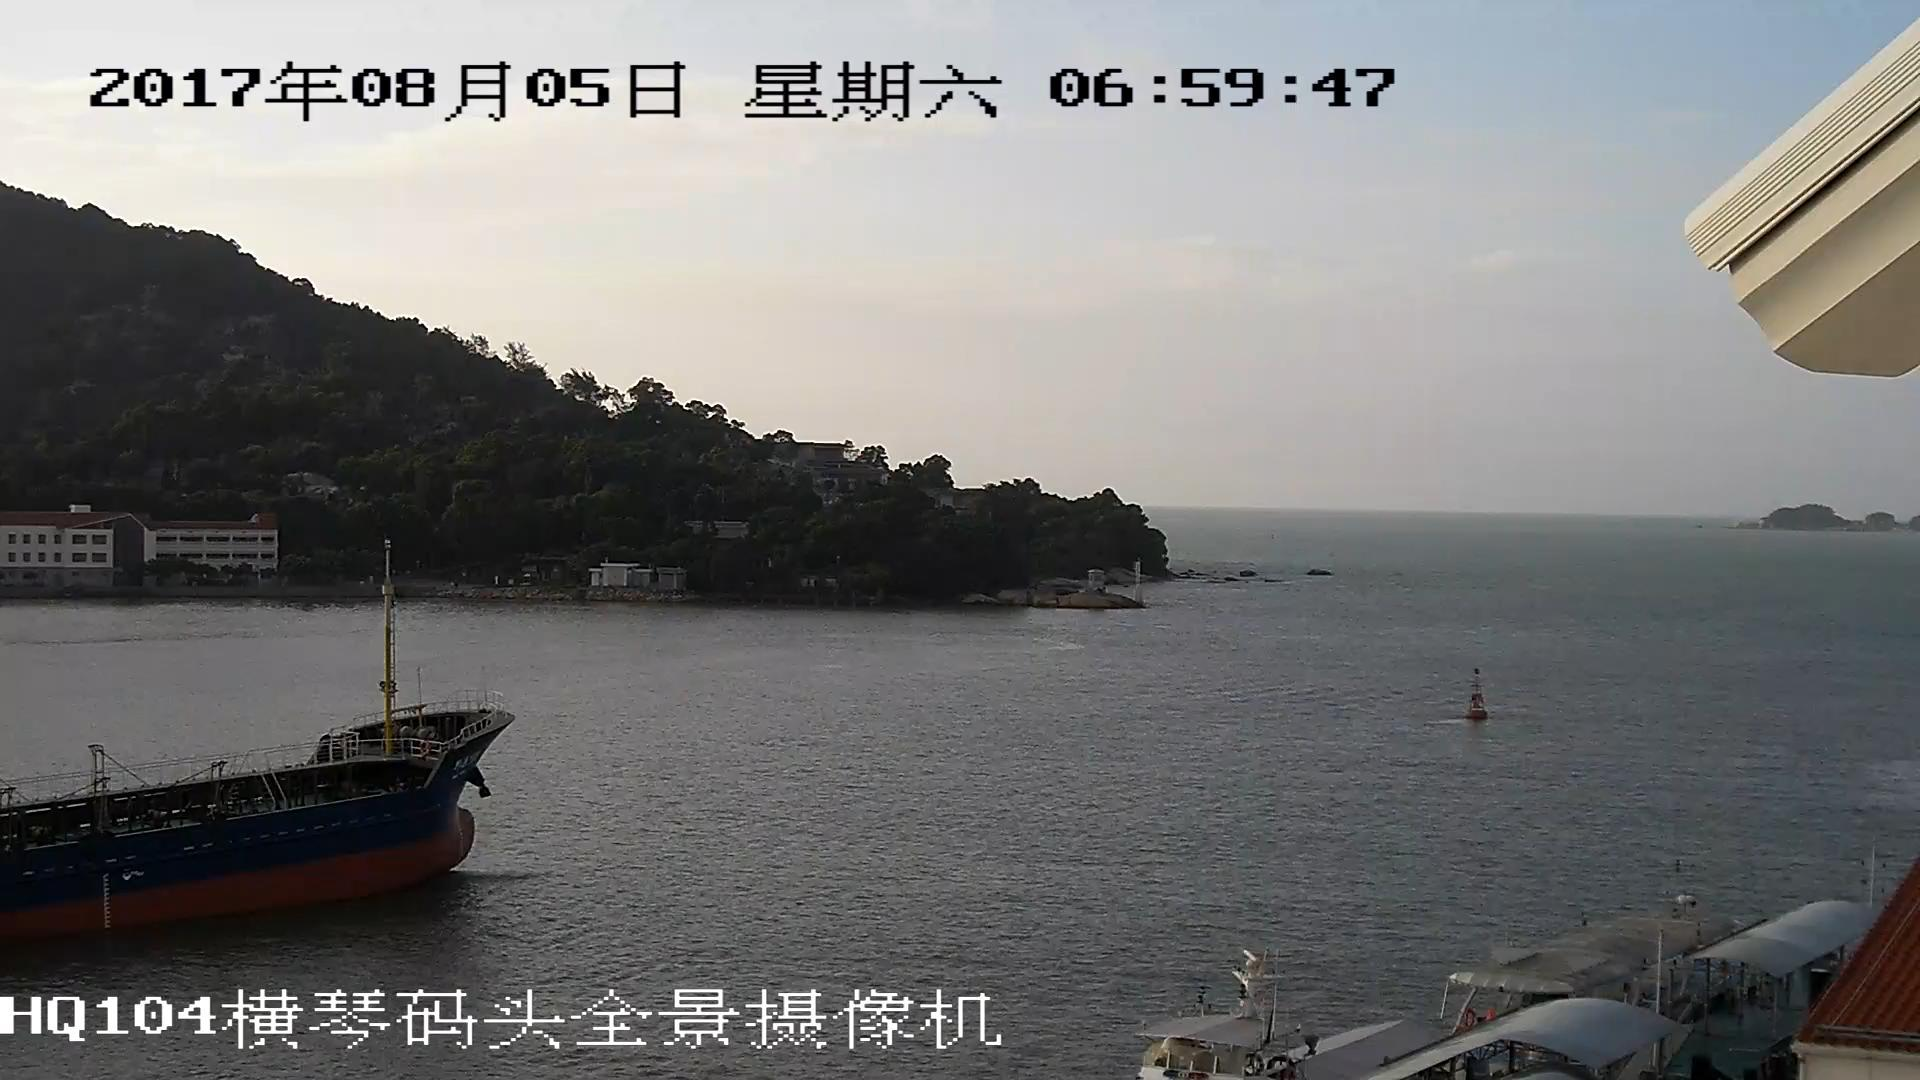Ship: (3, 543, 506, 953)
